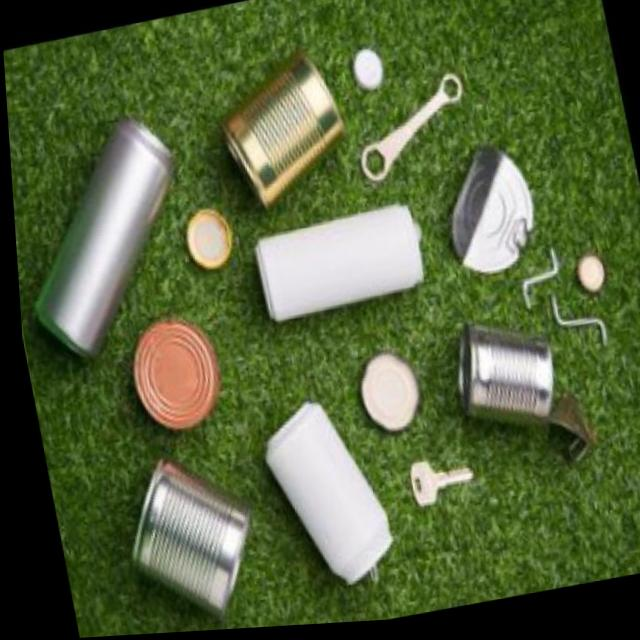clothes: (6, 106, 199, 365), (420, 300, 616, 495), (85, 424, 263, 632), (204, 52, 364, 218), (91, 304, 246, 444), (423, 126, 546, 294), (331, 76, 491, 184), (330, 343, 439, 450), (166, 187, 261, 299), (389, 440, 491, 537)
leaf: (232, 372, 404, 627), (228, 189, 456, 342), (335, 40, 403, 105), (565, 253, 628, 319)
